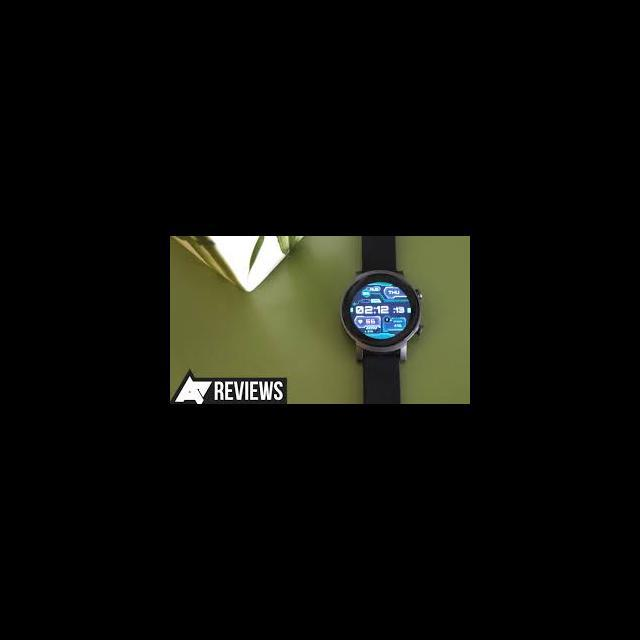watch: (321, 249, 489, 405)
